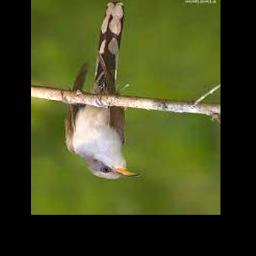Cuckoo: (66, 2, 142, 179)
